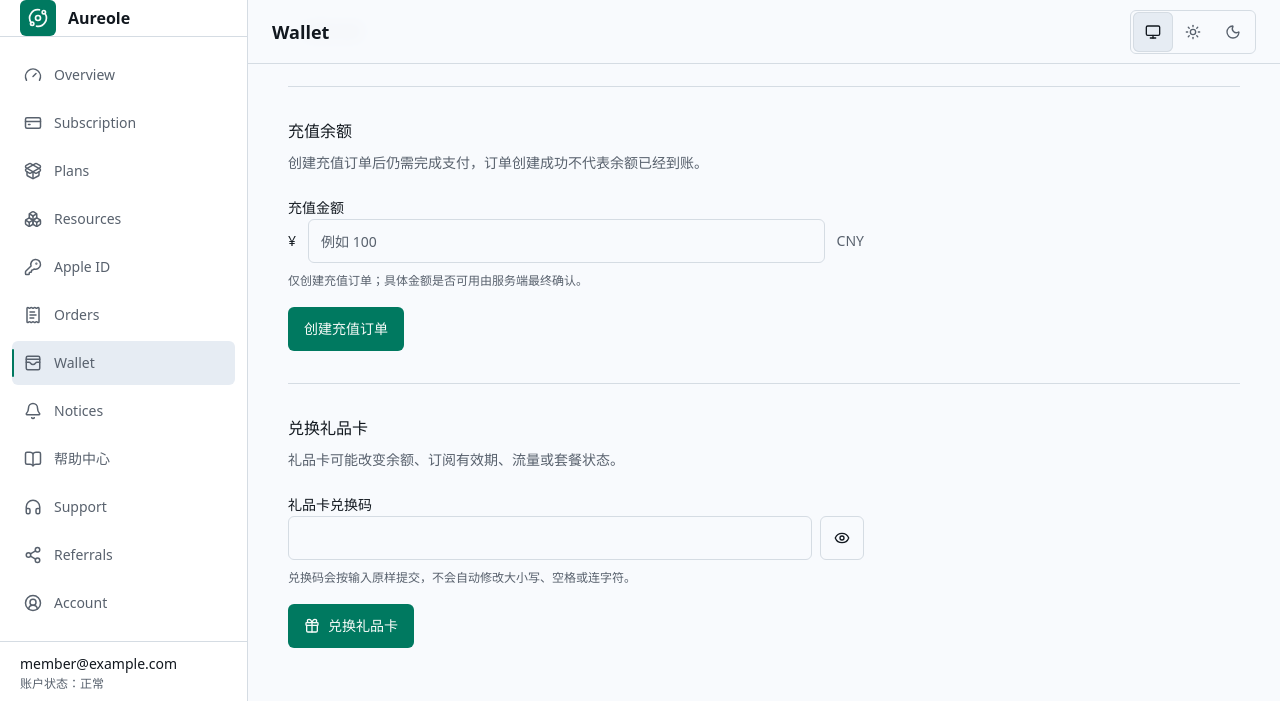
Gift Card confirmed success › shows the authoritative effect 0 and reconciles all account reads
(page scrolled)
Step 1. Type "fake-card-code" into the password field labelled "礼品卡兑换码" → (550, 538), box [288,516,812,560]
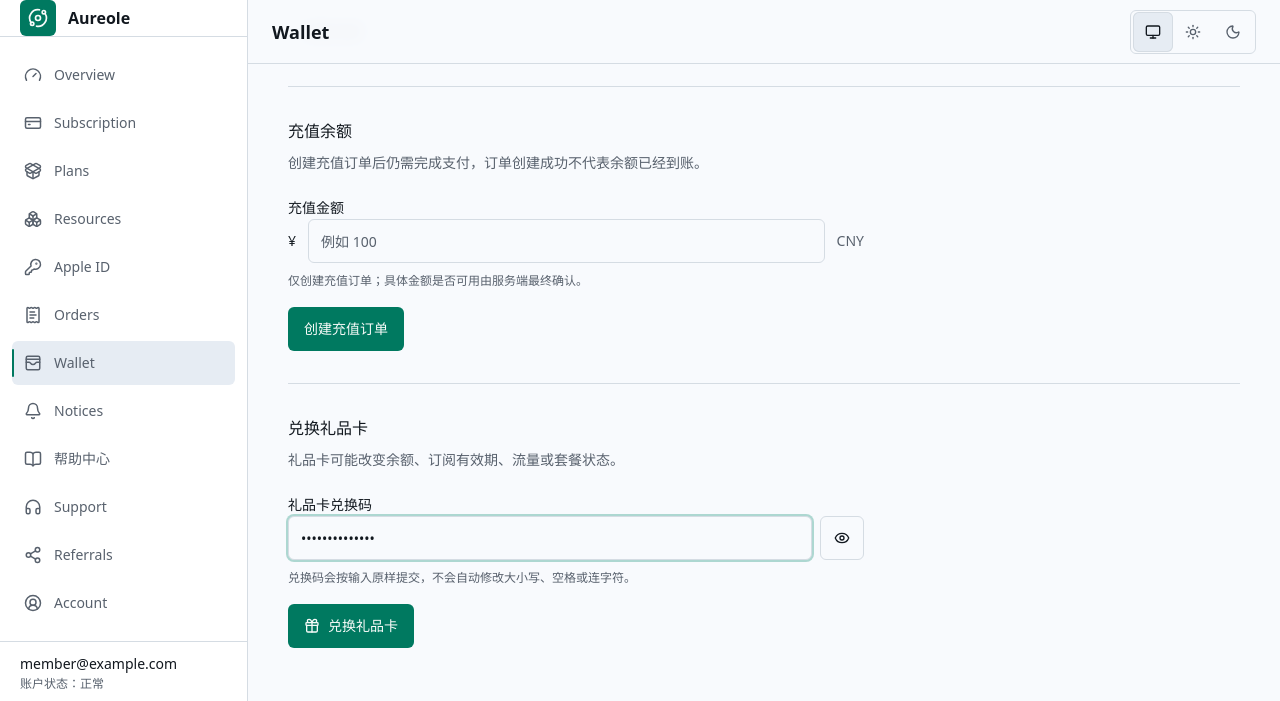
Step 2. Click the button "兑换礼品卡" → (351, 626), box [288,604,414,648]
(page scrolled)
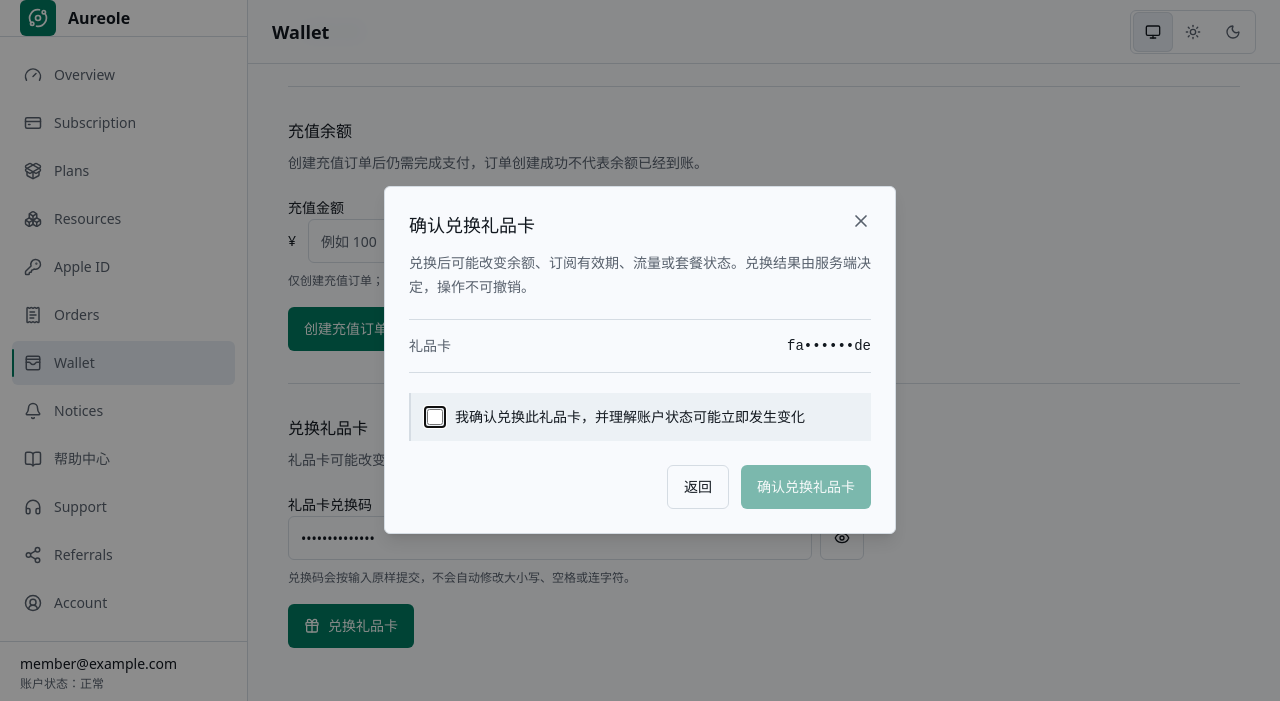
Step 3. Click the checkbox labelled "我确认兑换此礼品卡，并理解账户状态可能立即发生变化" → (435, 417), box [427,409,443,425]
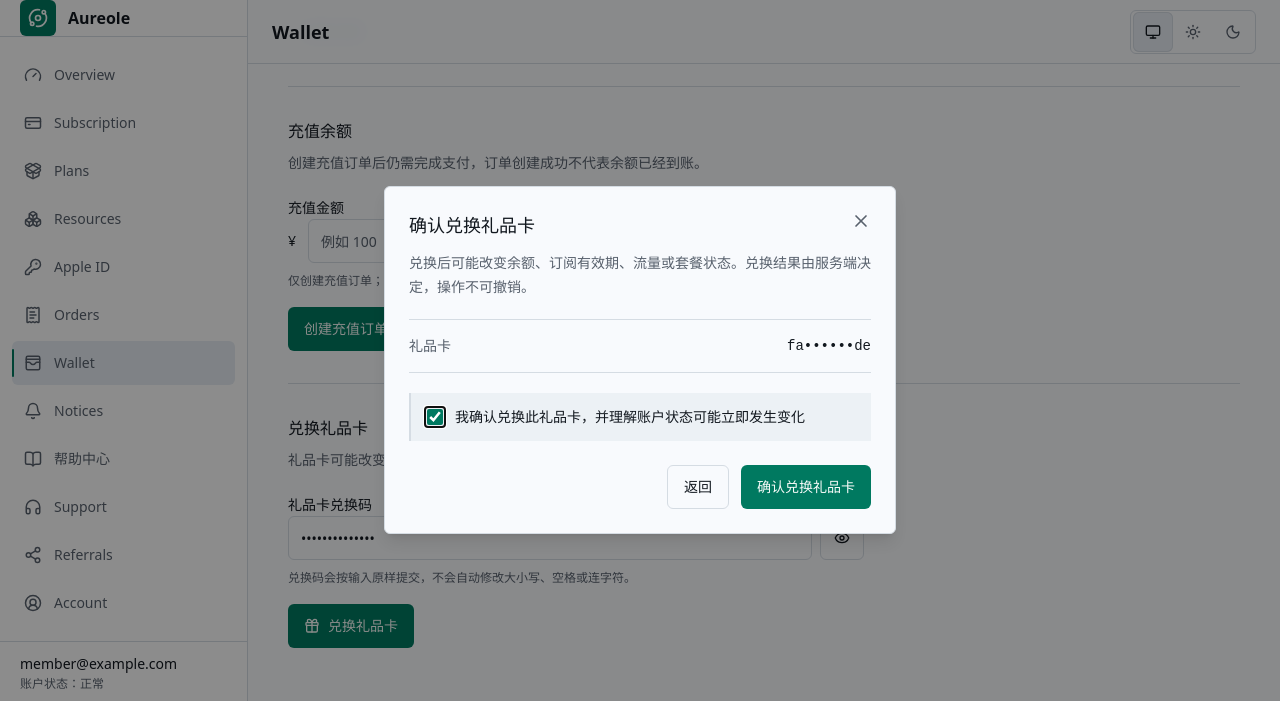
Step 4. Click the button "确认兑换礼品卡" → (806, 487), box [741,465,871,509]
(page scrolled)
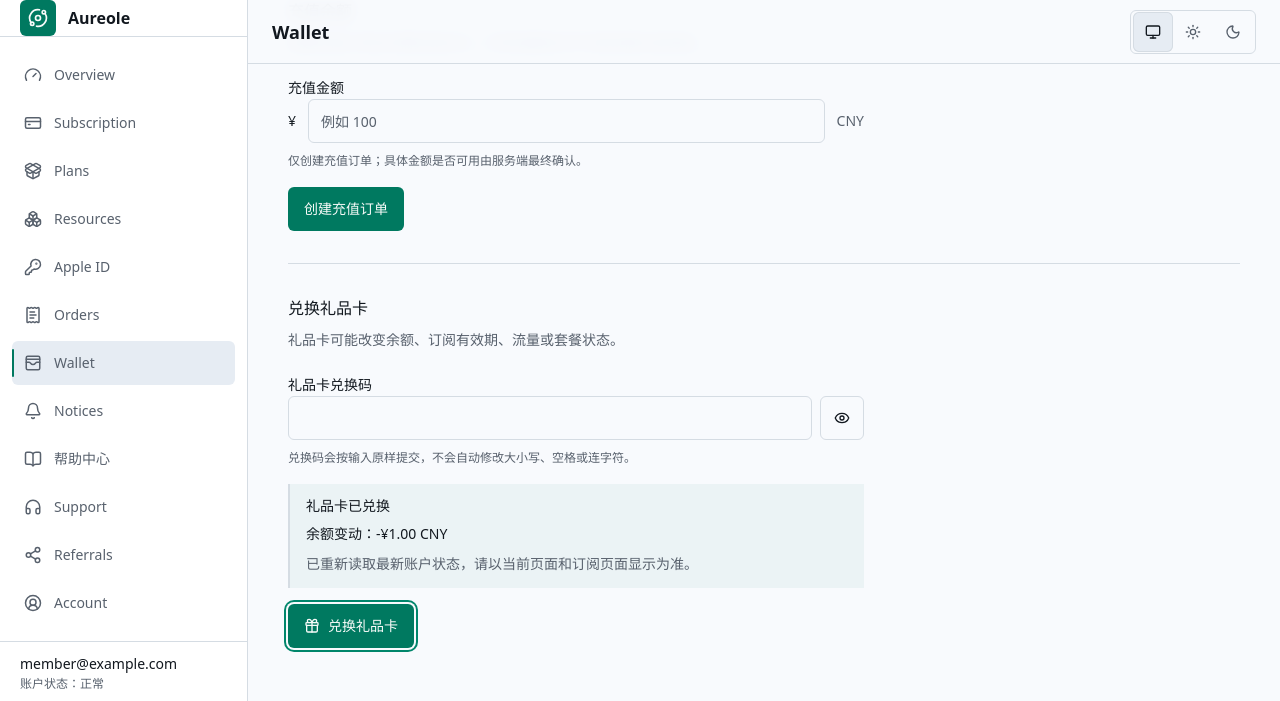
Result: the text "礼品卡已兑换" is shown at [306,496,390,515]
Result: the text "余额变动：-¥1.00 CNY" is shown at [306,524,447,543]
Result: the text "已重新读取最新账户状态，请以当前页面和订阅页面显示为准。" is shown at [306,554,698,573]
